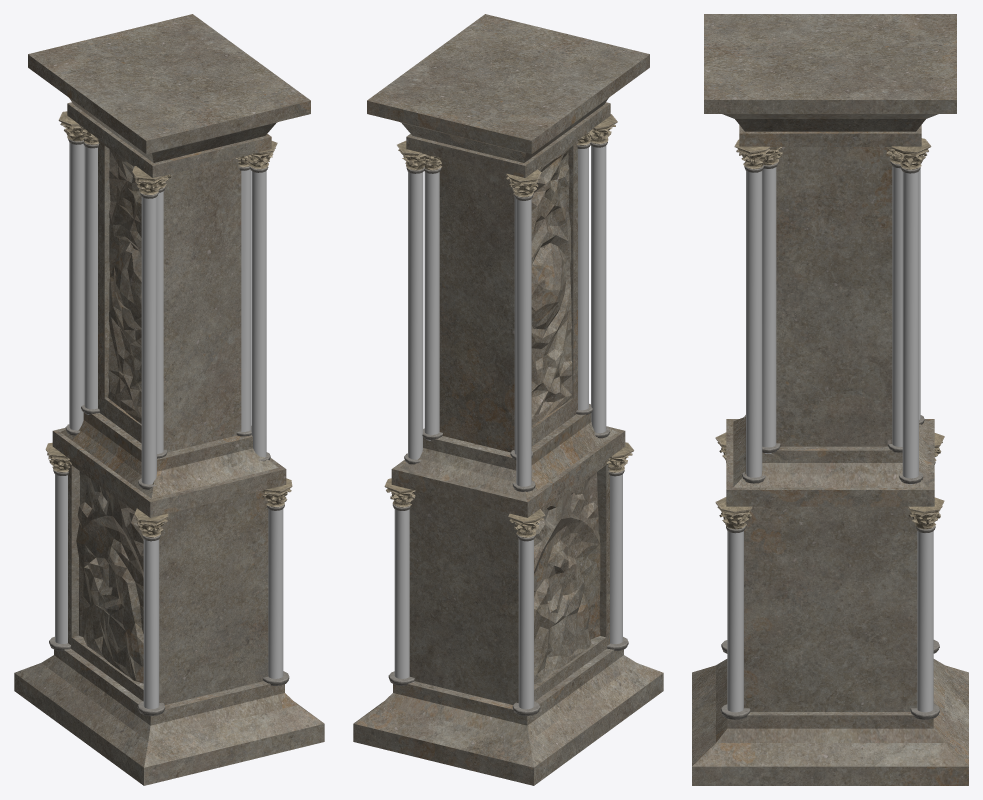
The model's file is SM_Big_Statue_Base.fbx.
3 views of the same model, side by side, from view 1: azimuth 30°, elevation 25°; view 2: azimuth 150°, elevation 25°; view 3: azimuth 270°, elevation 25° (orthographic). The views are drawn at different scales.
Visible parts, largest first — view 1: SM_Big_Statue_Base_LOD0; view 2: SM_Big_Statue_Base_LOD0; view 3: SM_Big_Statue_Base_LOD0.
Boxes of the visible parts, box(x1,y1,x2,y2) form: SM_Big_Statue_Base_LOD0: box(14, 14, 324, 785); SM_Big_Statue_Base_LOD0: box(353, 14, 663, 785); SM_Big_Statue_Base_LOD0: box(692, 14, 968, 785).
Bounding box in the file's own units: 166 × 207 × 562.
